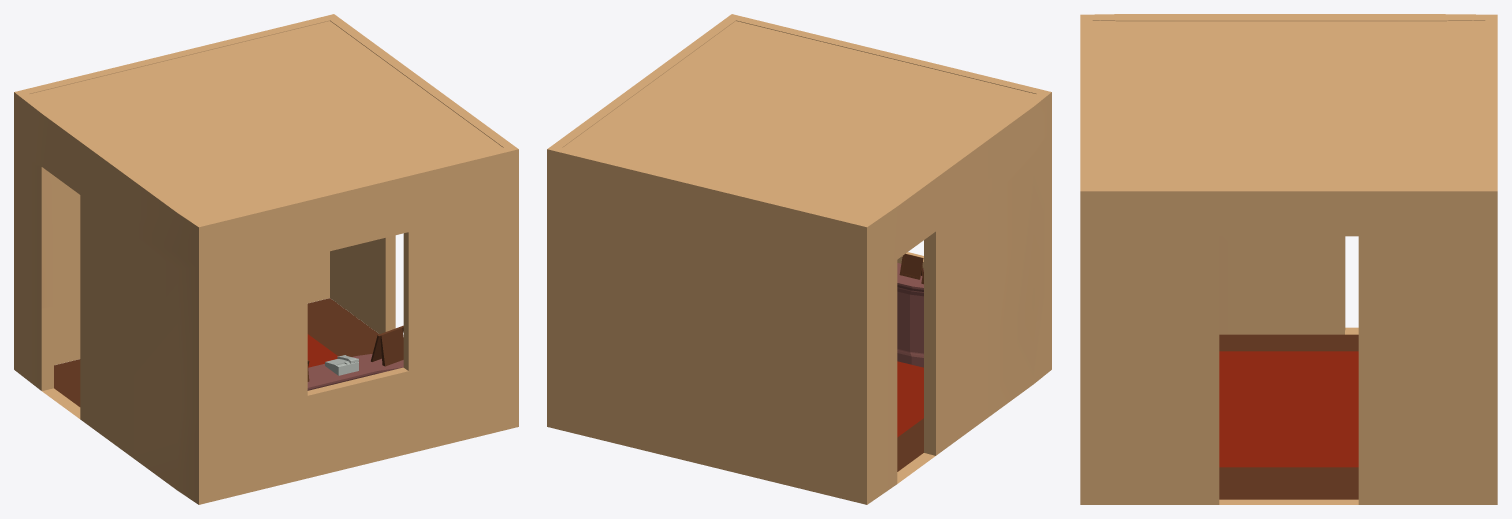
File: Hall 1.glb
3 views of the same model, side by side, from view 1: azimuth 30°, elevation 25°; view 2: azimuth 150°, elevation 25°; view 3: azimuth 270°, elevation 25° (orthographic). The views are drawn at different scales.
Visible parts, largest first — view 1: S_Hall.001, S_Buffet, S_Frame_04, S_Carpet.001; view 2: S_Hall.001, S_Buffet, S_Carpet.001; view 3: S_Hall.001, S_Carpet.001.
Boxes of the visible parts, x1,y1,x2,y2 form: S_Hall.001: (14, 14, 518, 504); S_Buffet: (307, 354, 403, 390); S_Frame_04: (371, 325, 403, 366); S_Carpet.001: (307, 334, 338, 367); S_Hall.001: (547, 14, 1051, 504); S_Buffet: (897, 263, 923, 367); S_Carpet.001: (897, 361, 923, 437); S_Hall.001: (1080, 14, 1497, 504); S_Carpet.001: (1219, 351, 1358, 467).
Bounding box in the file's own units: 3.2 × 2.65 × 3.19.
